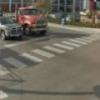crosswalks: (0, 36, 99, 76)
